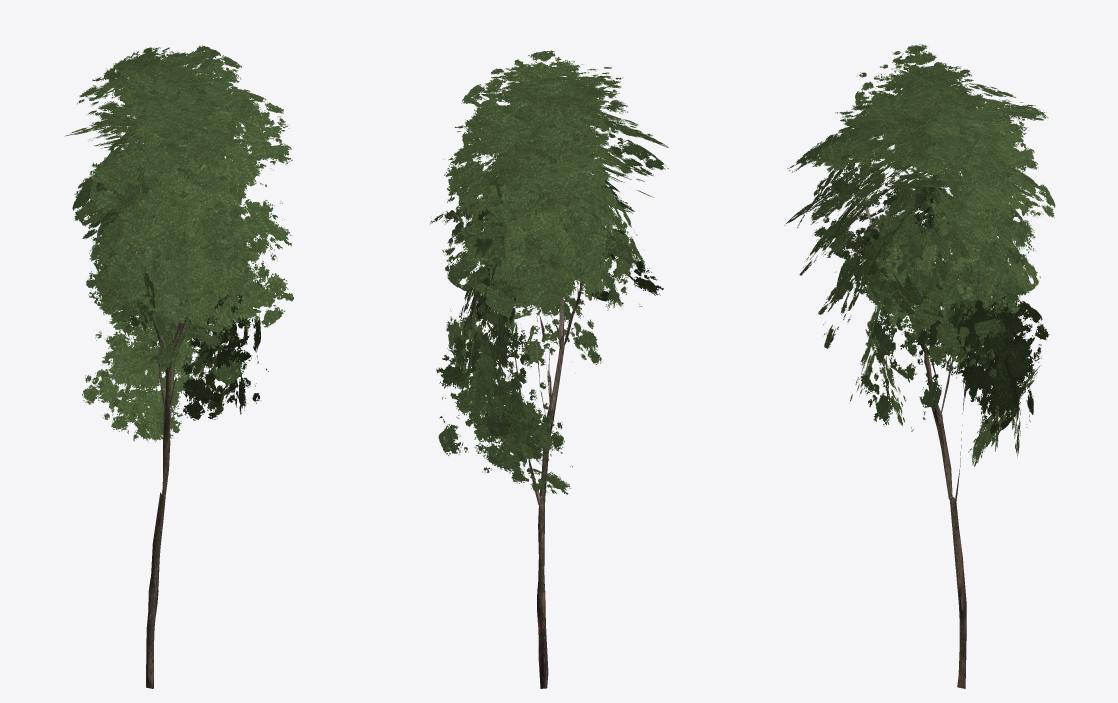
Rendered from tree.gltf.
The picture shows the model from 3 angles, left to right: view 1: azimuth 30°, elevation 25°; view 2: azimuth 150°, elevation 25°; view 3: azimuth 270°, elevation 25°; orthographic projection. The views are drawn at different scales.
Parts seen in each view (by area): view 1: tree; view 2: tree; view 3: tree.
Boxes of the visible parts, box(x1,y1,x2,y2) form: tree: box(65, 45, 293, 688); tree: box(430, 50, 668, 688); tree: box(784, 44, 1055, 688).
Size of the model in its own units: 2.03 by 4.66 by 2.43.
3 materials, 3 textured.
